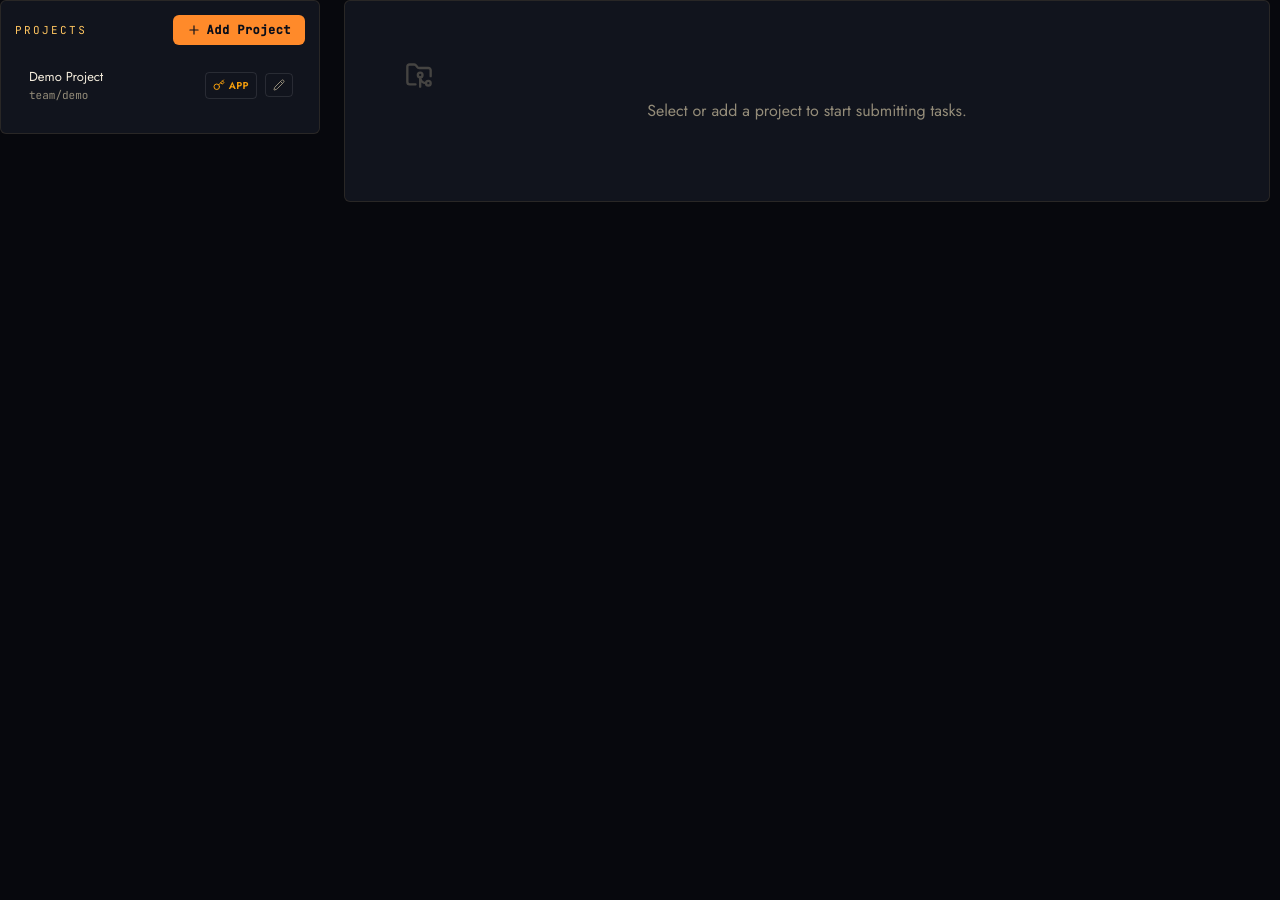
Test: Ticket E-UI · full trend chart in project detail view › shows the full chart card in the detail view (not only inside Edit) once a project is selected
Click the element with test id "proj-row-p_1" at [66, 76], box [15,57,305,113]
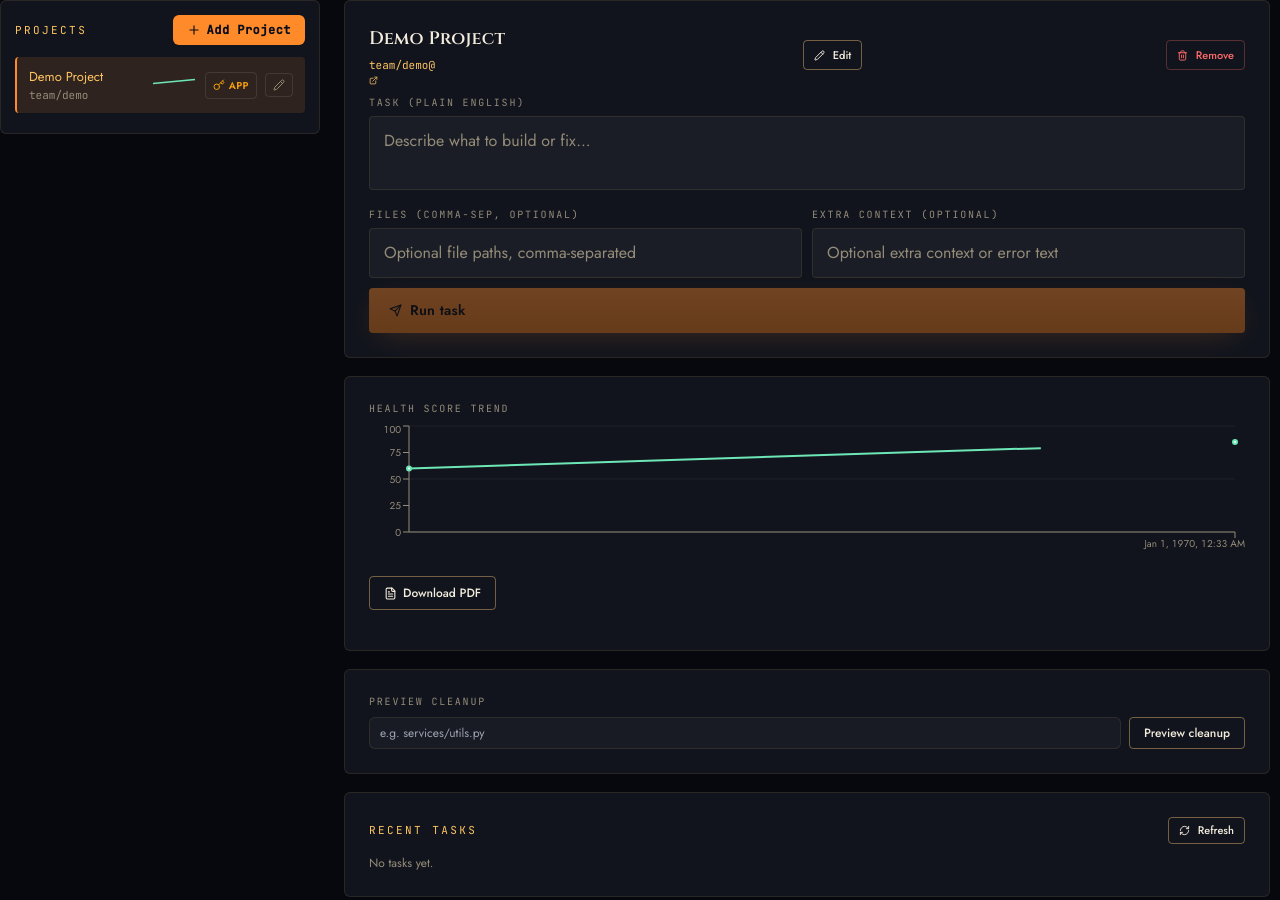
Expected: the element with test id "proj-detail-health-trend" is shown, [344,376,1270,651]
Expected: the element with test id "proj-health-trend-chart" is shown, [369,422,1245,562]
